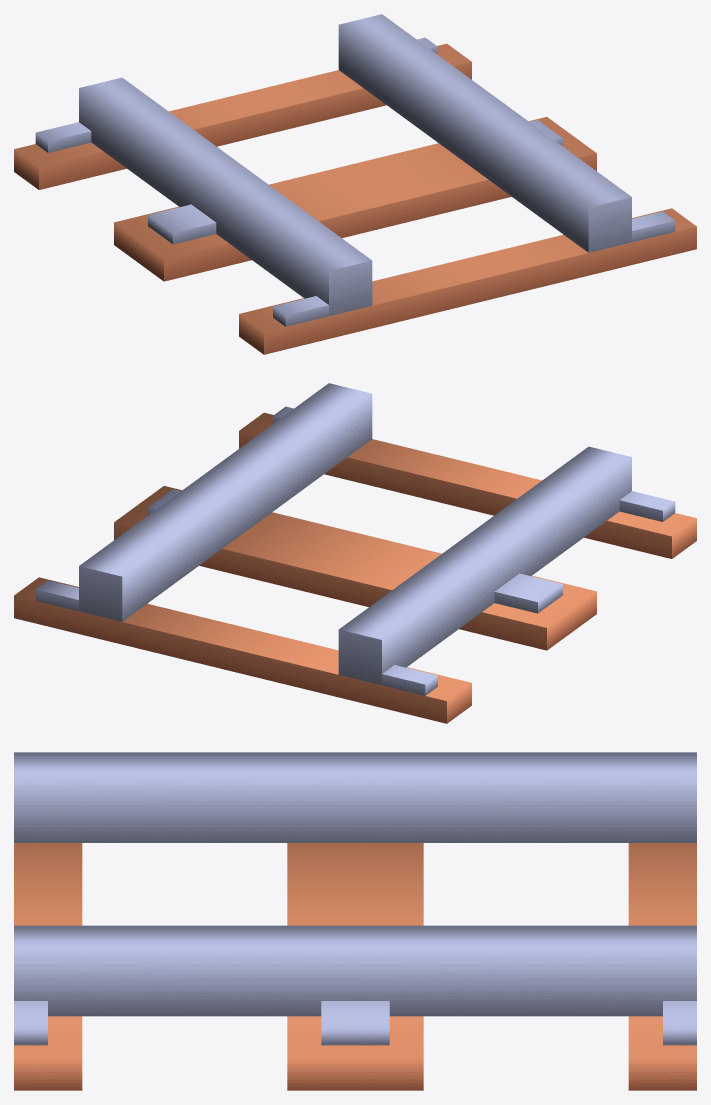
File: track-detailed.glb
The picture shows the model from 3 angles, top to bottom: view 1: azimuth 30°, elevation 25°; view 2: azimuth 150°, elevation 25°; view 3: azimuth 270°, elevation 25°; orthographic projection. The views are drawn at different scales.
Parts seen in each view (by area): view 1: track-detailed; view 2: track-detailed; view 3: track-detailed.
Part boxes in pixels (x1,y1,x2,y2): track-detailed: (14,14,696,354); track-detailed: (14,383,696,723); track-detailed: (14,752,696,1090).
Bounding box in the file's own units: 1 × 0.15 × 1.
Materials: 1 (1 with a texture image).
